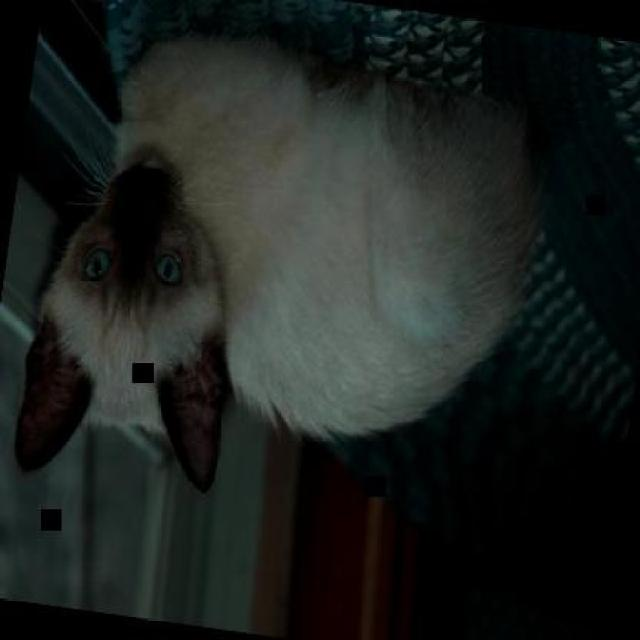cat: (10, 16, 553, 536)
